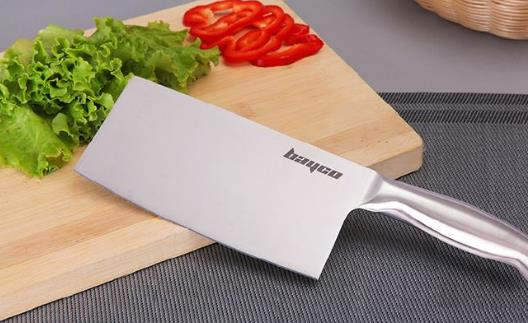knief: (78, 76, 523, 295)
